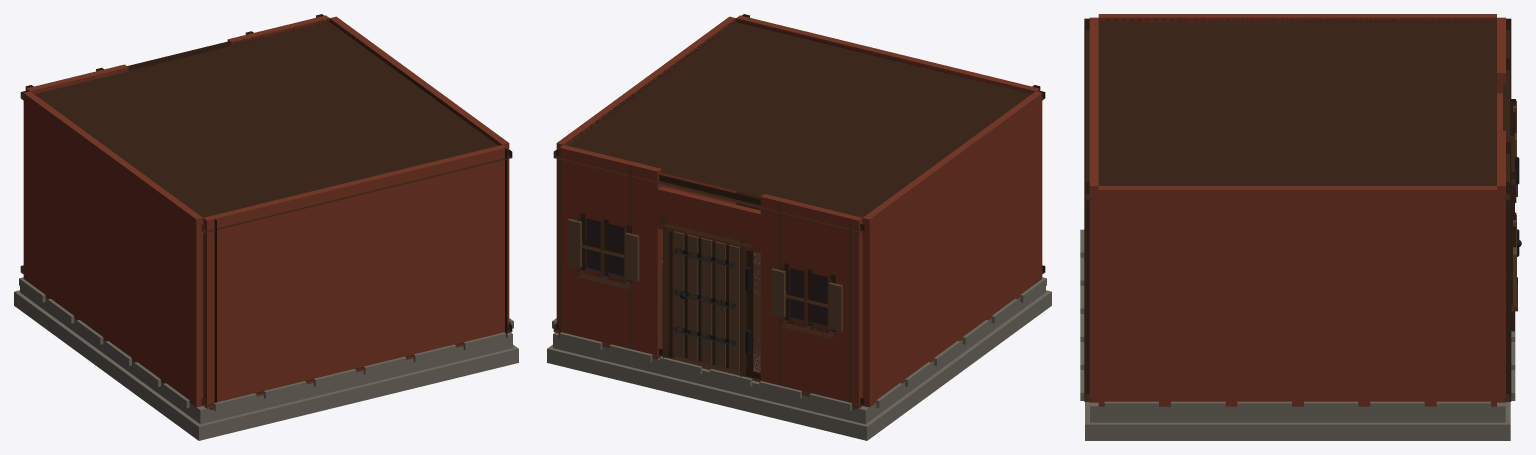
File: GalakasMidCity_LWR_W04D04_BrickShopfront_01.obj
3 views of the same model, side by side, from view 1: azimuth 30°, elevation 25°; view 2: azimuth 150°, elevation 25°; view 3: azimuth 270°, elevation 25° (orthographic). The views are drawn at different scales.
Parts seen in each view (by area): view 1: lower_back_wall, lower_ceiling_cap, lower_left_wall, stone_plinth_base, stone_plinth_raised, lower_right_wall, lower_front_left_wall, lower_back_course_534, lower_front_right_wall, lower_back_post_3_9, lower_back_post_-3_9; view 2: lower_ceiling_cap, lower_left_wall, lower_front_left_wall, lower_front_right_wall, stone_plinth_base, stone_plinth_raised, lower_front_above_door, lower_right_wall, lower_back_wall, lower_main_door_slab, lower_front_course_534, lower_main_door_frame_l (+18 smaller); view 3: lower_right_wall, lower_ceiling_cap, stone_plinth_base, stone_plinth_raised, lower_back_wall, lower_left_wall, lower_front_right_wall, lower_front_post_3_9, lower_back_post_3_9, lower_back_course_534, lower_front_course_534, lower_front_left_wall (+6 smaller).
Boxes of the visible parts, x1,y1,x2,y2 form: lower_back_wall: (203,145,506,408); lower_ceiling_cap: (34,18,500,217); lower_left_wall: (23,91,203,407); stone_plinth_base: (14,290,518,440); stone_plinth_raised: (20,277,512,424); lower_right_wall: (329,16,509,323); lower_front_left_wall: (26,64,128,93); lower_back_course_534: (201,149,512,232); lower_front_right_wall: (227,15,329,45); lower_back_post_3_9: (505,148,507,337); lower_back_post_-3_9: (209,219,216,409); lower_ceiling_cap: (563,18,1034,217); lower_left_wall: (862,91,1042,407); lower_front_left_wall: (760,194,862,408); lower_front_right_wall: (559,145,661,359); stone_plinth_base: (547,290,1051,440); stone_plinth_raised: (553,253,1045,424); lower_front_above_door: (657,186,760,253); lower_right_wall: (556,16,736,323); lower_back_wall: (736,15,1039,209); lower_main_door_slab: (672,229,740,374); lower_front_course_534: (553,149,864,232); lower_main_door_frame_l: (740,236,753,376); lower_right_wall: (1098,186,1496,406); lower_ceiling_cap: (1098,17,1496,185); stone_plinth_base: (1085,402,1510,440); stone_plinth_raised: (1090,402,1505,422); lower_back_wall: (1089,17,1098,402); lower_left_wall: (1098,14,1496,22); lower_front_right_wall: (1497,131,1505,402); lower_front_post_3_9: (1506,182,1511,401); lower_back_post_3_9: (1084,182,1089,401); lower_back_course_534: (1085,30,1092,200); lower_front_course_534: (1503,30,1509,200); lower_front_left_wall: (1497,17,1505,93).
Size of the model in its own units: 8.74 by 5.52 by 8.87.
